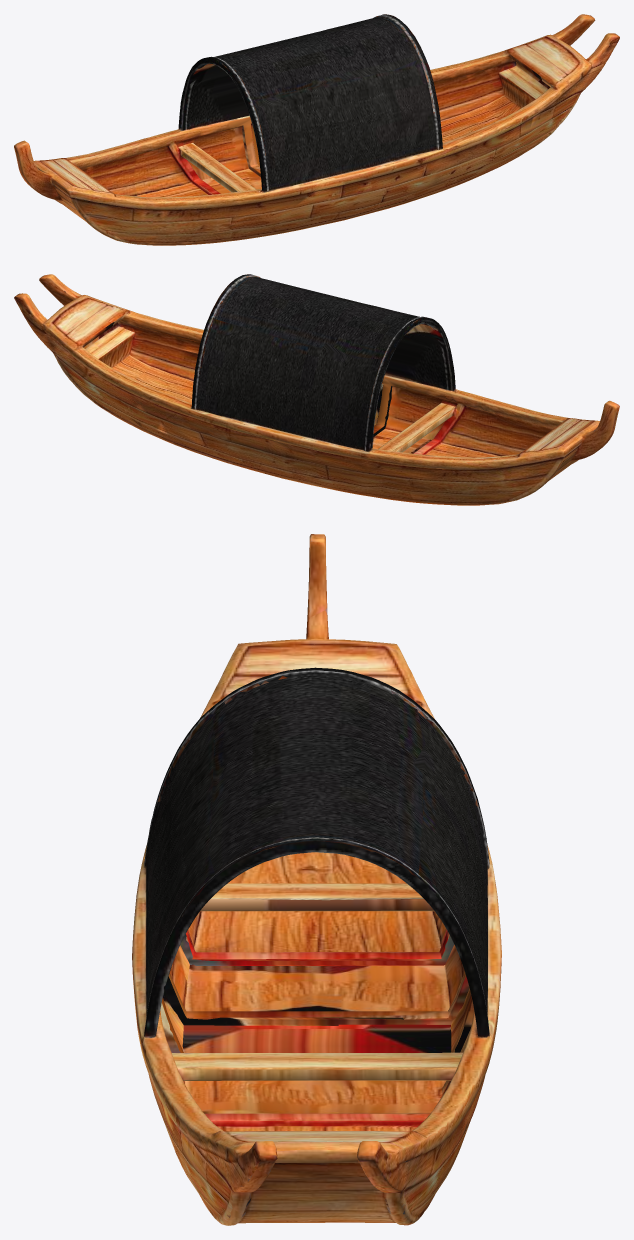
Rendered from boat.glb.
3 renders of one model, top to bottom at view 1: azimuth 30°, elevation 25°; view 2: azimuth 150°, elevation 25°; view 3: azimuth 270°, elevation 25°, orthographic. The views are drawn at different scales.
Visible parts, largest first — view 1: boat; view 2: boat; view 3: boat.
Boxes of the visible parts, x1,y1,x2,y2 form: boat: (14,14,619,245); boat: (14,274,619,505); boat: (132,534,501,1225).
Size of the model in its own units: 1 by 0.248 by 0.2715.
1 material, 1 textured.
